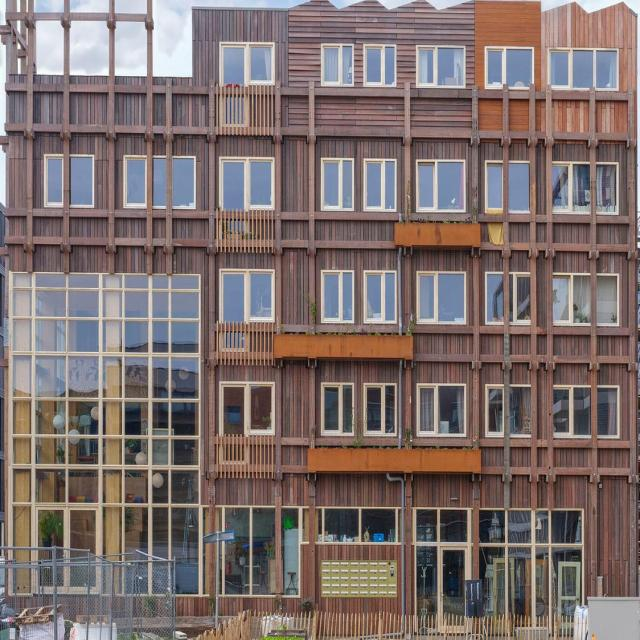door: (411, 543, 472, 634)
window: (10, 273, 204, 594), (413, 508, 584, 636), (218, 504, 403, 595), (548, 163, 617, 213), (548, 273, 617, 323), (550, 387, 619, 437), (220, 380, 276, 437), (218, 155, 274, 211), (219, 266, 274, 322), (549, 47, 618, 91), (416, 159, 467, 211), (418, 384, 469, 436), (417, 271, 467, 322), (221, 42, 273, 85), (417, 44, 466, 89), (484, 164, 529, 209), (486, 390, 531, 434), (485, 276, 529, 320), (364, 160, 399, 212), (364, 272, 399, 324), (365, 386, 400, 438), (485, 49, 532, 86), (321, 271, 354, 318), (323, 385, 355, 433), (321, 160, 353, 207), (364, 43, 396, 87), (321, 45, 352, 87), (172, 157, 196, 211), (70, 153, 92, 207), (126, 155, 146, 209), (47, 156, 64, 204), (153, 157, 167, 207)
